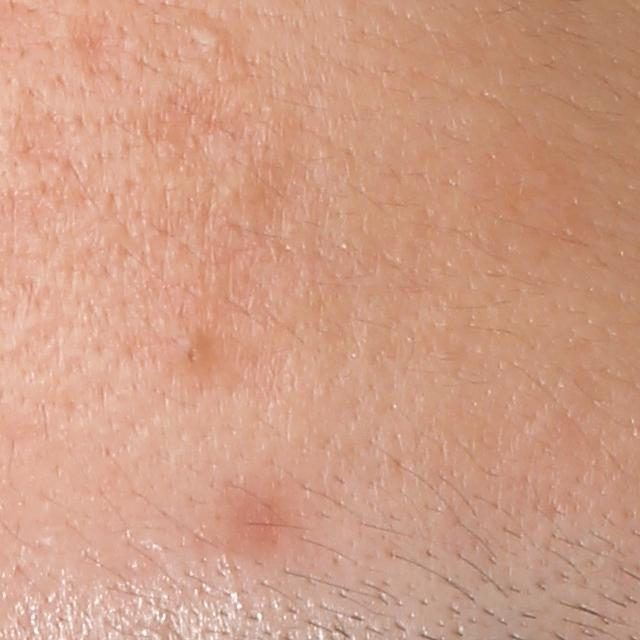atrophic_scar: (137, 85, 234, 157), (1, 106, 78, 163), (68, 6, 125, 78)
comedo: (189, 16, 232, 53), (175, 330, 211, 374)
